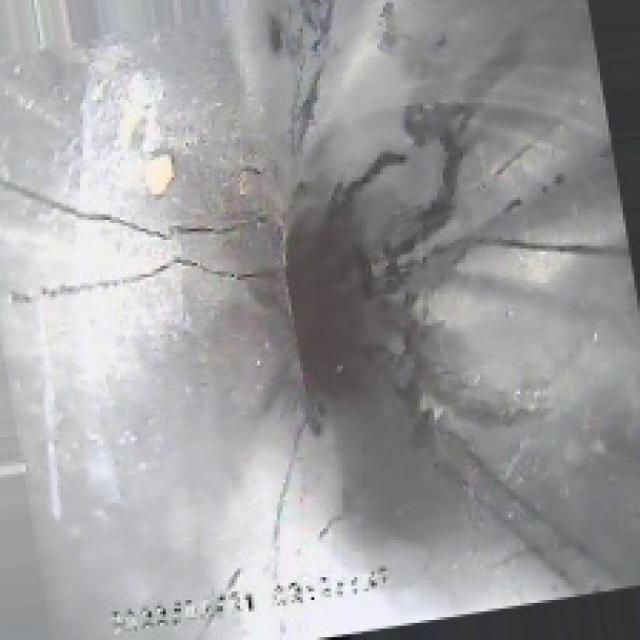shape_deformation: (106, 72, 531, 477)
